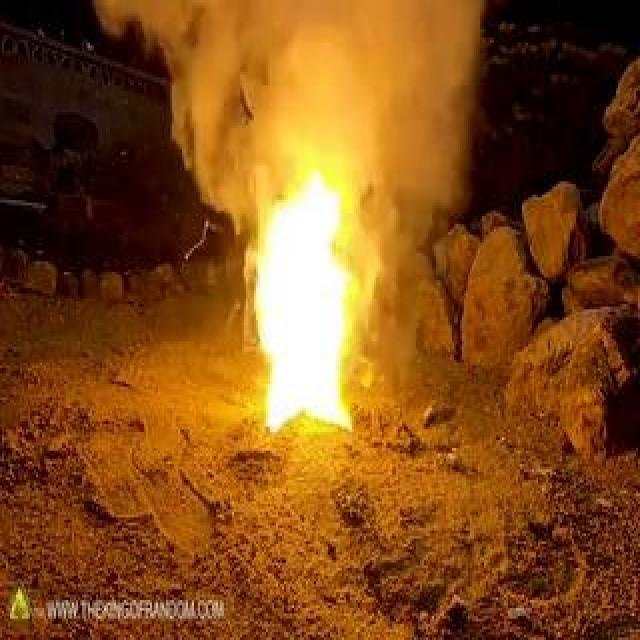Fire: (148, 276, 286, 330)
